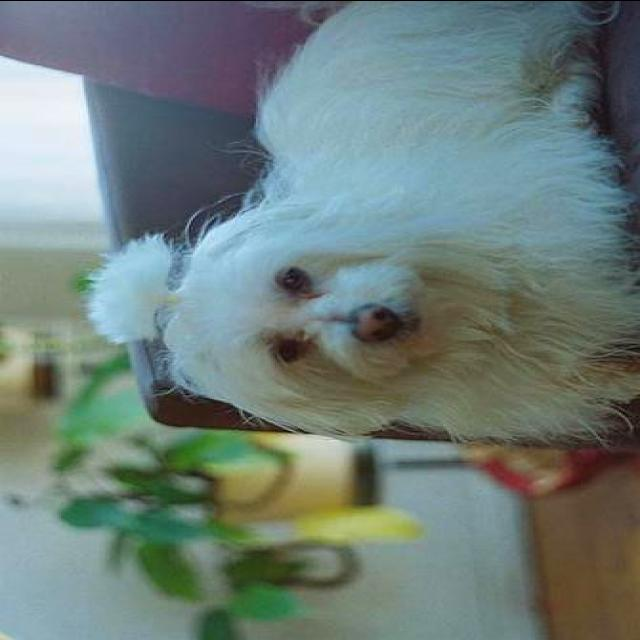maltese_dog: (82, 2, 638, 446)
